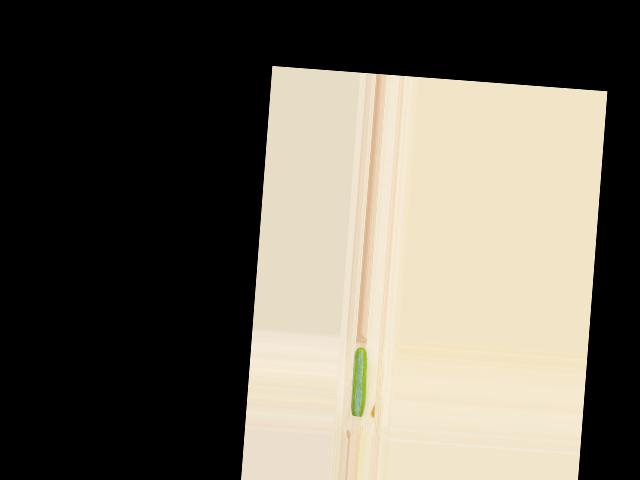cucumber: (350, 346, 369, 416)
